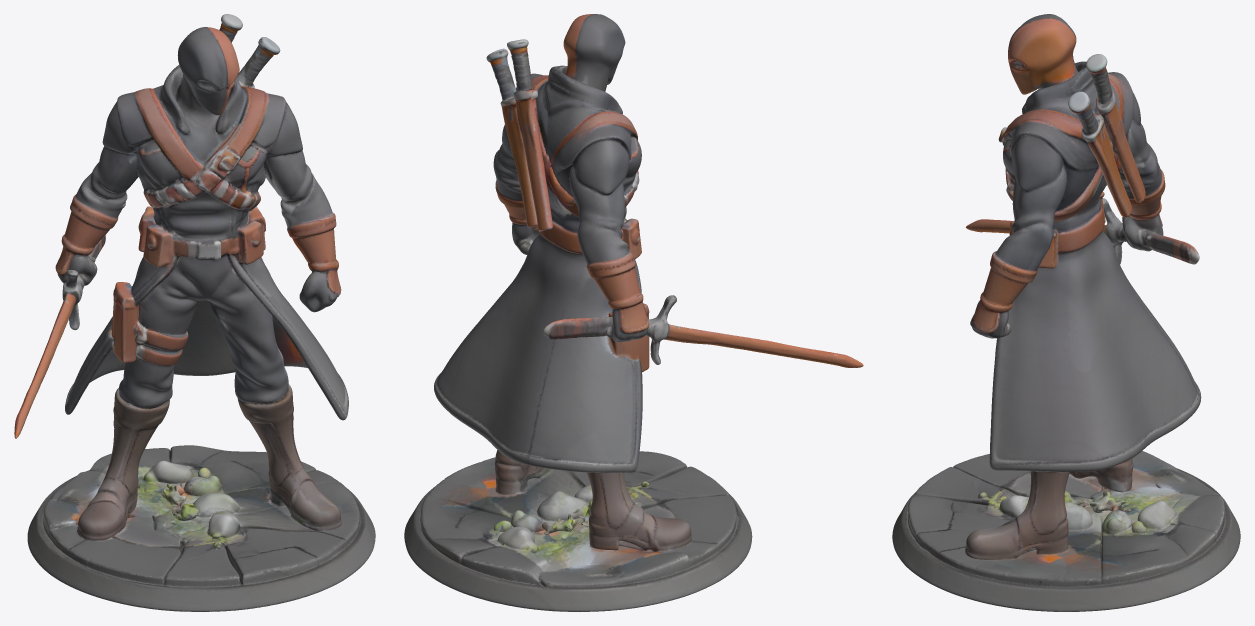
The model's file is deathsroke.glb.
The picture shows the model from 3 angles, left to right: view 1: azimuth 30°, elevation 25°; view 2: azimuth 150°, elevation 25°; view 3: azimuth 270°, elevation 25°; orthographic projection.
Visible parts, largest first — view 1: Object_3, Object_2, Object_4, Object_5, Object_6; view 2: Object_3, Object_4, Object_2, Object_5, Object_6; view 3: Object_3, Object_4, Object_2, Object_5, Object_6.
Part boxes in pixels (left/top/right/bottom): Object_3: left=14, top=143, right=375, bottom=564; Object_2: left=27, top=329, right=375, bottom=611; Object_4: left=59, top=14, right=358, bottom=580; Object_5: left=17, top=15, right=332, bottom=603; Object_6: left=15, top=27, right=292, bottom=611; Object_3: left=405, top=138, right=863, bottom=606; Object_4: left=424, top=14, right=664, bottom=579; Object_2: left=404, top=358, right=752, bottom=611; Object_5: left=445, top=14, right=845, bottom=598; Object_6: left=486, top=15, right=855, bottom=611; Object_3: left=927, top=150, right=1240, bottom=603; Object_4: left=905, top=14, right=1225, bottom=577; Object_2: left=892, top=376, right=1238, bottom=611; Object_5: left=895, top=14, right=1238, bottom=561; Object_6: left=893, top=14, right=1240, bottom=538.
Size of the model in its own units: 62.63 by 80 by 48.57.
